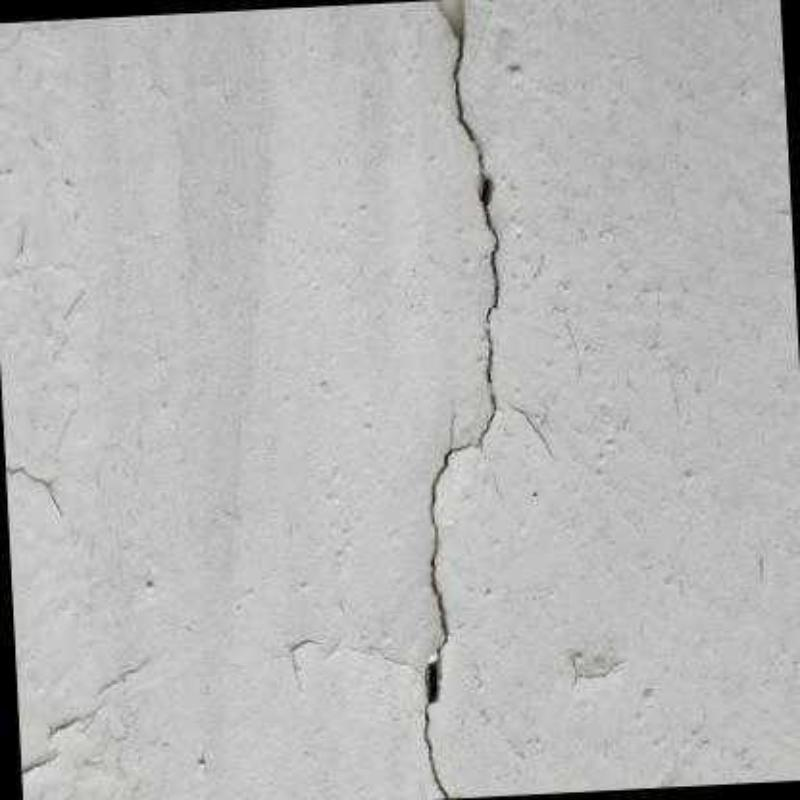pothole: (422, 14, 503, 798), (6, 465, 63, 517), (567, 652, 627, 692), (511, 403, 554, 455)
